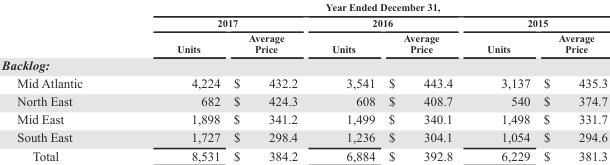table: (0, 1, 607, 162)
table column: (0, 1, 129, 162), (129, 1, 226, 162), (226, 1, 314, 162), (381, 1, 469, 162), (536, 1, 607, 162), (314, 1, 381, 162), (469, 1, 536, 162)
table column header: (0, 1, 607, 55)
table projected row header: (0, 55, 607, 73)
table row: (0, 30, 607, 55), (0, 91, 607, 110), (0, 55, 607, 73), (0, 73, 607, 91), (0, 110, 607, 128), (0, 128, 607, 146), (0, 14, 607, 30), (0, 146, 607, 162), (0, 1, 607, 14)
table spanning cell: (129, 1, 607, 14), (129, 14, 314, 30), (314, 14, 469, 30), (469, 14, 607, 30)
